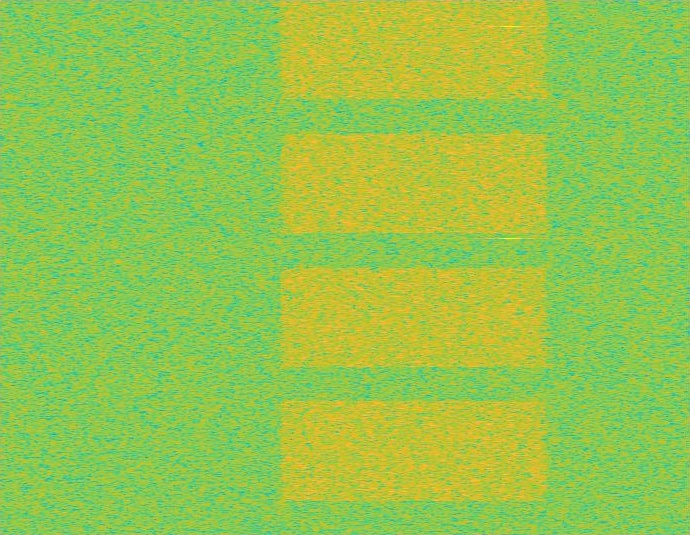5G: (276, 0, 552, 534)
Radar: (504, 0, 518, 534)
